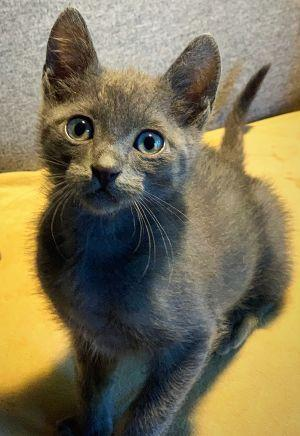rblue: (17, 6, 235, 243)
